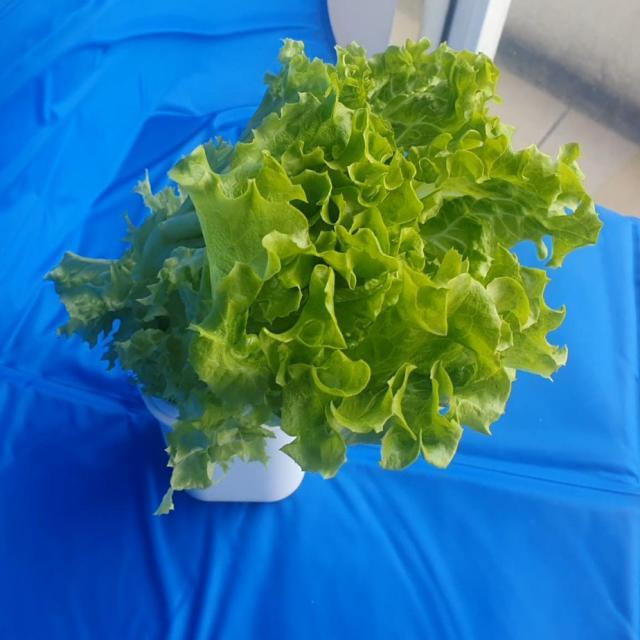Lettuce-Ready-to-Harvest: (46, 39, 601, 514)
